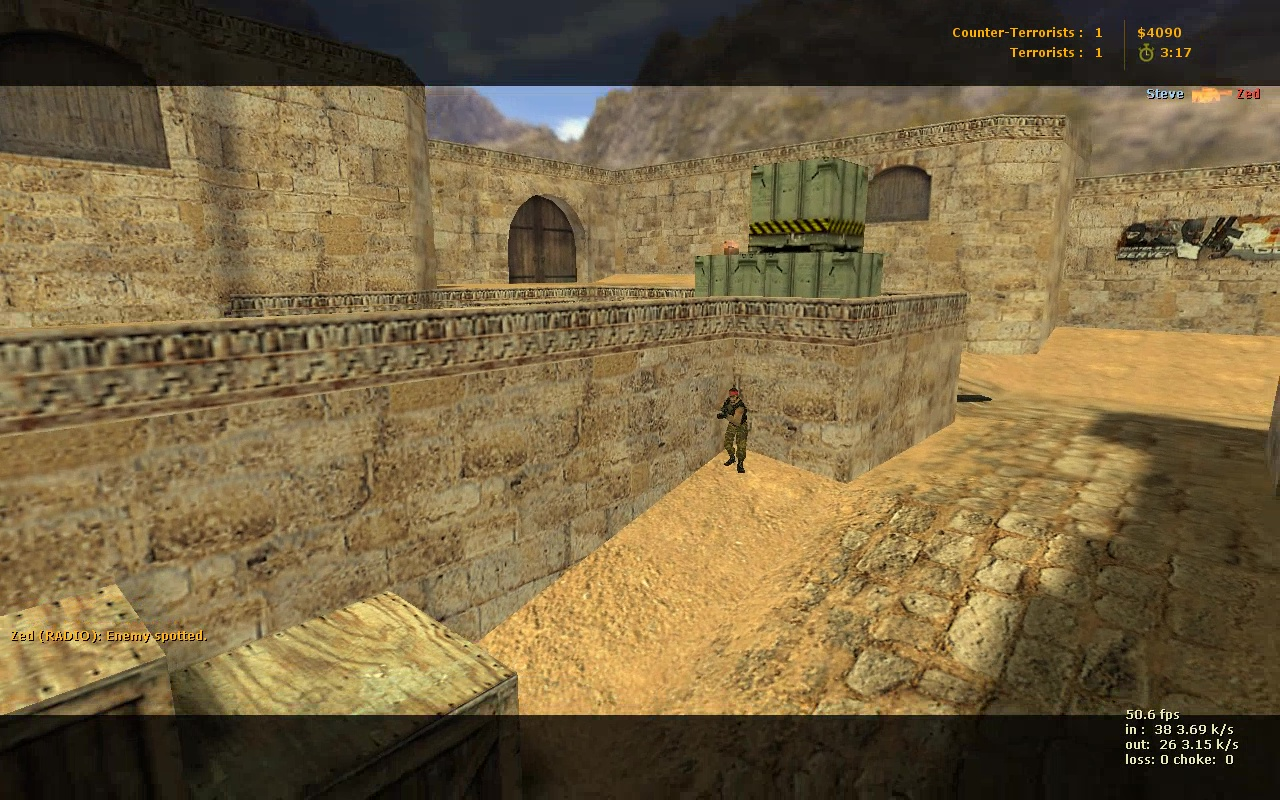terr1: (717, 388, 752, 474)
